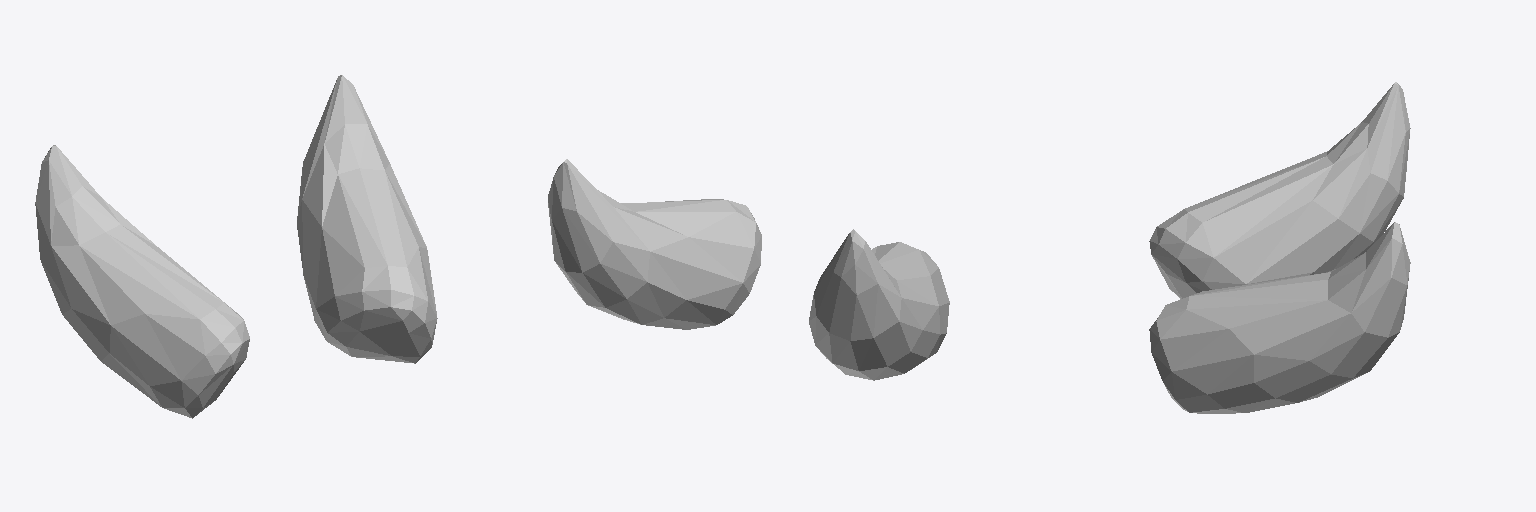
Rendered from enderhorn.obj.
The picture shows the model from 3 angles: view 1: azimuth 30°, elevation 25°; view 2: azimuth 150°, elevation 25°; view 3: azimuth 270°, elevation 25°; orthographic projection.
Visible parts, largest first — view 1: Cynder; view 2: Cynder; view 3: Cynder.
Part boxes in pixels (x1,y1,x2,y2): Cynder: (35,75,437,418); Cynder: (548,159,949,380); Cynder: (1149,82,1410,413).
Bounding box in the file's own units: 1.24 × 0.7134 × 0.8108.